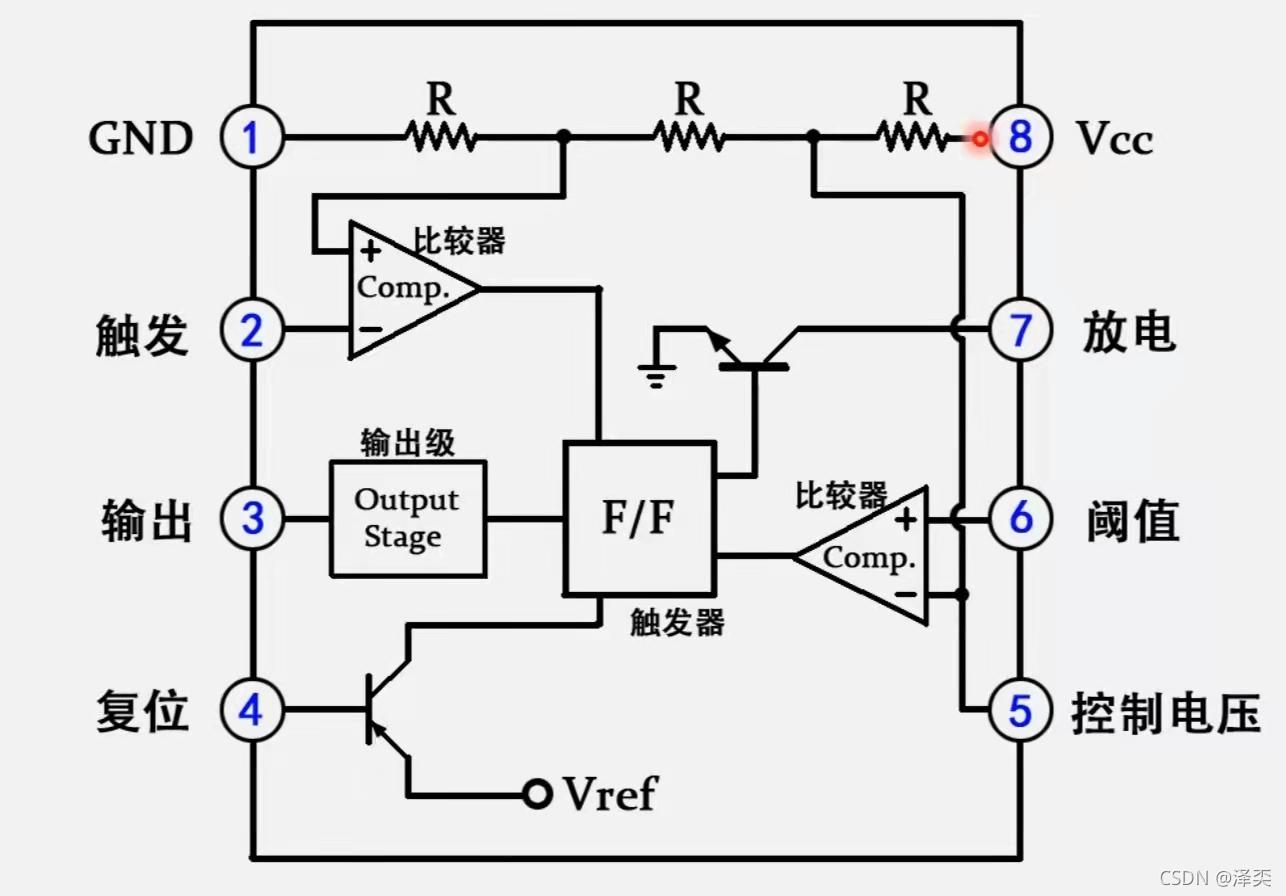bistable flip-flop: (567, 444, 713, 593)
comparator1: (797, 484, 929, 632), (350, 222, 484, 359)
discharge circuit: (675, 314, 824, 375)
output circuit: (330, 462, 484, 575)
reset circuit: (362, 622, 435, 799)
resistance: (405, 117, 477, 154), (650, 120, 728, 154), (875, 120, 951, 152)
